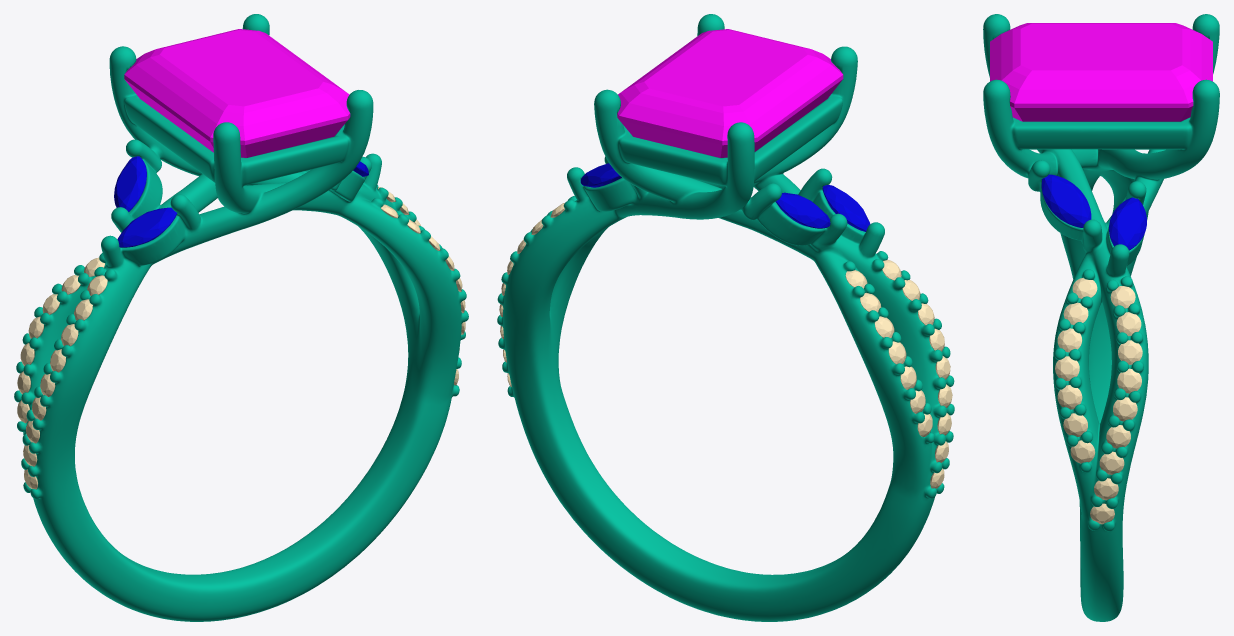
File: BE104B_EM_200ct_RENDER.glb
3 renders of one model, left to right at view 1: azimuth 30°, elevation 25°; view 2: azimuth 150°, elevation 25°; view 3: azimuth 270°, elevation 25°, orthographic.
Visible parts, largest first — view 1: Metal 01, CS_Diamond_Emerald, Diamond_Marquise_side.003, Diamond_Marquise_side.001; view 2: Metal 01, CS_Diamond_Emerald, Diamond_Marquise_side.001, Diamond_Marquise_side.003, Diamond_Marquise_side.002; view 3: Metal 01, CS_Diamond_Emerald, Diamond_Marquise_side, Diamond_Marquise_side.002, Diamond_Round_Gem_SH.005, Diamond_Round_Gem_SH.004, Diamond_Round_Gem_SH.002, Diamond_Round_Gem_SH.003, Diamond_Round_Gem_SH.010, Diamond_Round_Gem_SH.001, Diamond_Round_Gem_SH.009, Diamond_Round_Gem_SH.006 (+8 smaller).
Part boxes in pixels (left/top/right/bottom): Metal 01: left=14, top=14, right=468, bottom=621; CS_Diamond_Emerald: left=124, top=29, right=350, bottom=157; Diamond_Marquise_side.003: left=117, top=207, right=177, bottom=247; Diamond_Marquise_side.001: left=114, top=156, right=146, bottom=211; Metal 01: left=497, top=14, right=954, bottom=621; CS_Diamond_Emerald: left=617, top=29, right=843, bottom=157; Diamond_Marquise_side.001: left=775, top=192, right=830, bottom=228; Diamond_Marquise_side.003: left=822, top=185, right=870, bottom=231; Diamond_Marquise_side.002: left=580, top=163, right=621, bottom=187; Metal 01: left=983, top=14, right=1219, bottom=621; CS_Diamond_Emerald: left=990, top=23, right=1212, bottom=121; Diamond_Marquise_side: left=1041, top=174, right=1091, bottom=227; Diamond_Marquise_side.002: left=1109, top=197, right=1146, bottom=250; Diamond_Round_Gem_SH.005: left=1057, top=385, right=1082, bottom=409; Diamond_Round_Gem_SH.004: left=1117, top=368, right=1141, bottom=393; Diamond_Round_Gem_SH.002: left=1055, top=356, right=1079, bottom=380; Diamond_Round_Gem_SH.003: left=1118, top=340, right=1142, bottom=364; Diamond_Round_Gem_SH.010: left=1113, top=397, right=1137, bottom=421; Diamond_Round_Gem_SH.001: left=1057, top=328, right=1082, bottom=352; Diamond_Round_Gem_SH.009: left=1116, top=312, right=1141, bottom=336; Diamond_Round_Gem_SH.006: left=1063, top=413, right=1087, bottom=436.
Size of the model in its own units: 20.64 by 24.58 by 9.56.
